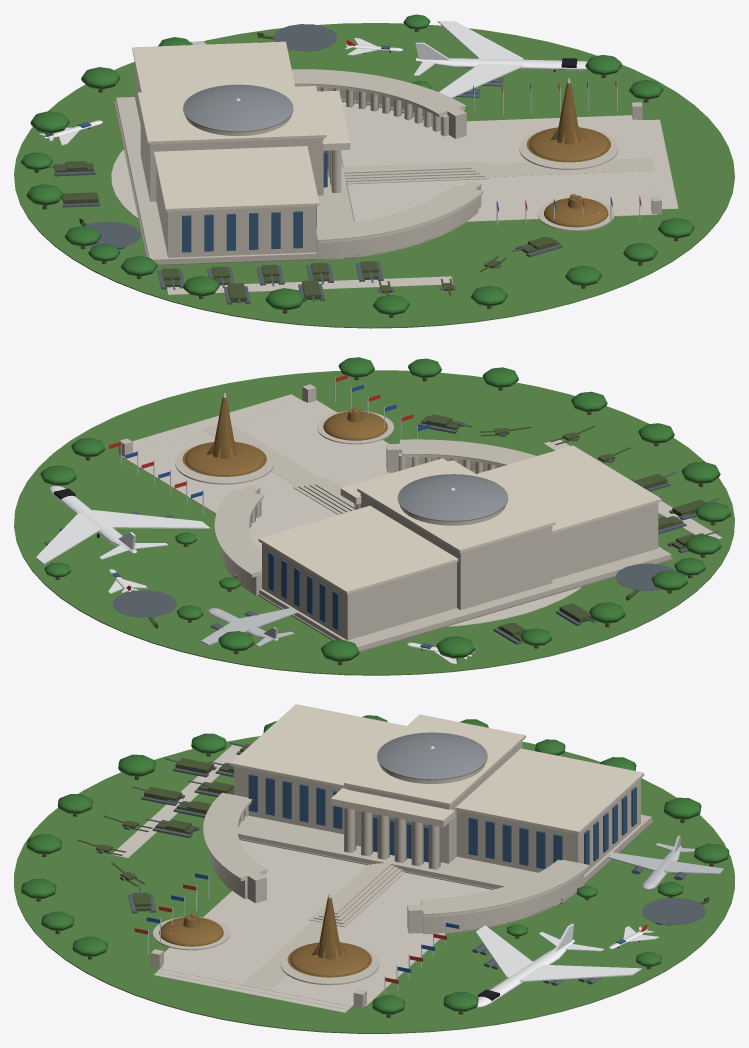
File: war-memorial.glb
3 renders of one model, top to bottom at view 1: azimuth 30°, elevation 25°; view 2: azimuth 150°, elevation 25°; view 3: azimuth 270°, elevation 25°, orthographic.
Bounding box in the file's own units: 290 × 36.6 × 290.
